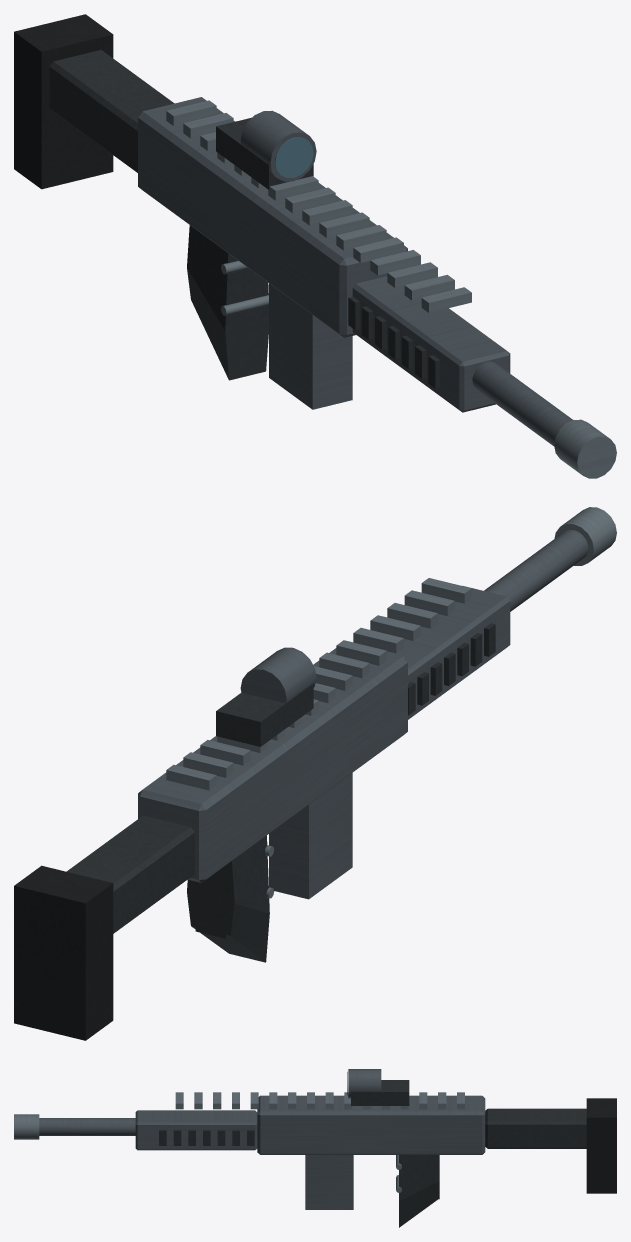
The model's file is carbine.glb.
3 renders of one model, top to bottom at view 1: azimuth 30°, elevation 25°; view 2: azimuth 150°, elevation 25°; view 3: azimuth 270°, elevation 25°, orthographic. The views are drawn at different scales.
Parts seen in each view (by area): view 1: carbine; view 2: carbine; view 3: carbine.
Boxes of the visible parts, x1,y1,x2,y2 form: carbine: [14, 14, 616, 478]; carbine: [14, 507, 616, 1040]; carbine: [14, 1069, 616, 1227].
Size of the model in its own units: 0.09 by 0.332 by 1.19.
5 materials, 5 textured.
